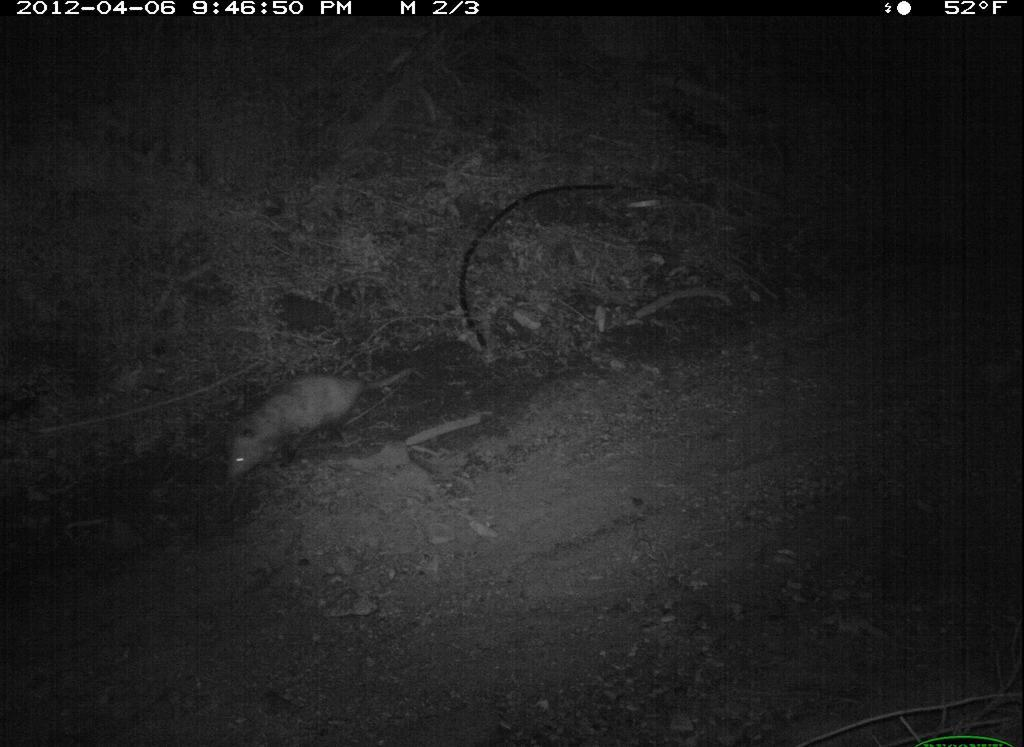opossum: (213, 359, 382, 505)
